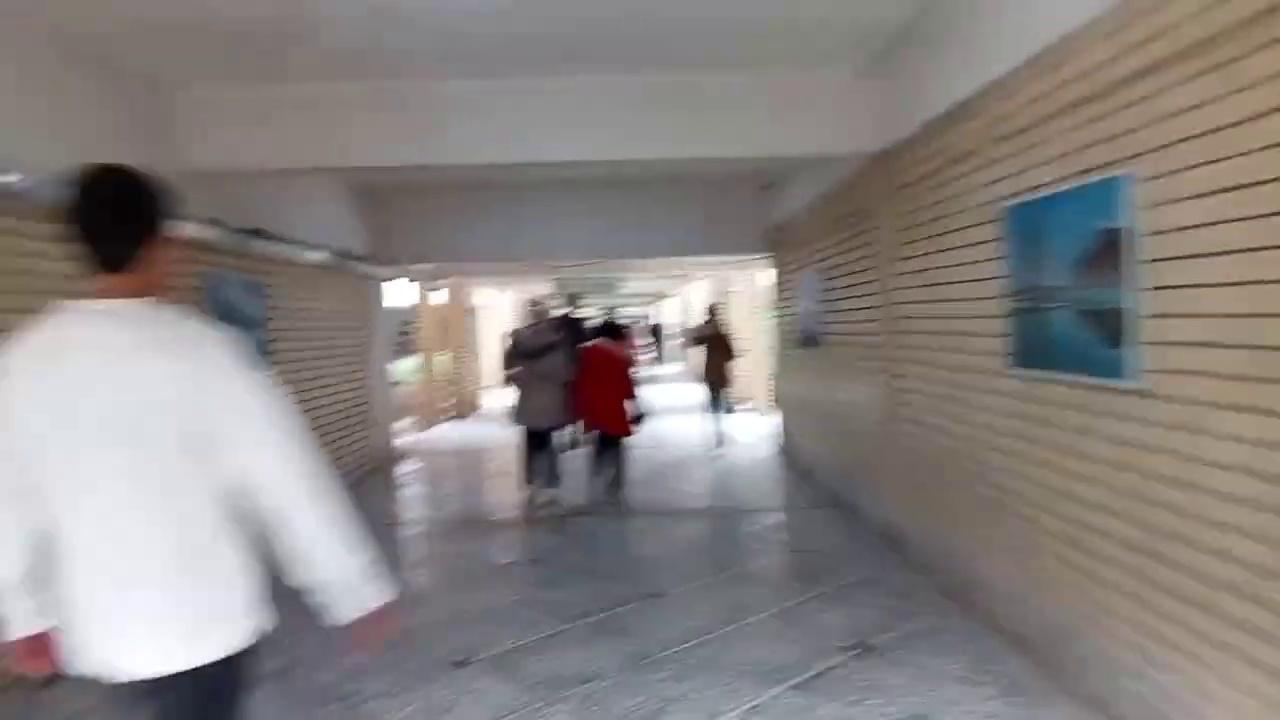person: (0, 160, 404, 718), (502, 298, 580, 512), (571, 319, 645, 508), (690, 301, 734, 448)
tree: (411, 296, 482, 422)
